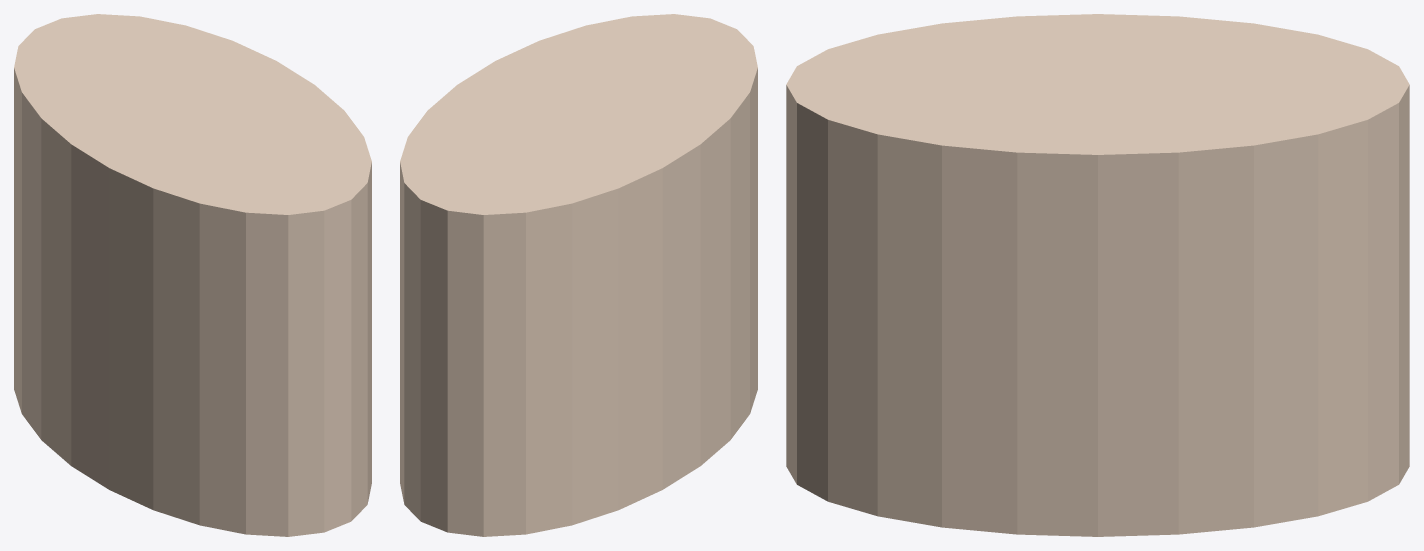
Rendered from own_cyl_38x48x71_d8b090.glb.
3 renders of one model, left to right at view 1: azimuth 30°, elevation 25°; view 2: azimuth 150°, elevation 25°; view 3: azimuth 270°, elevation 25°, orthographic. The views are drawn at different scales.
Parts seen in each view (by area): view 1: geometry_0; view 2: geometry_0; view 3: geometry_0.
Part boxes in pixels (x1,y1,x2,y2): geometry_0: (14, 14, 371, 536); geometry_0: (400, 14, 757, 536); geometry_0: (786, 14, 1409, 536).
Bounding box in the file's own units: 0.38 × 0.48 × 0.71.
